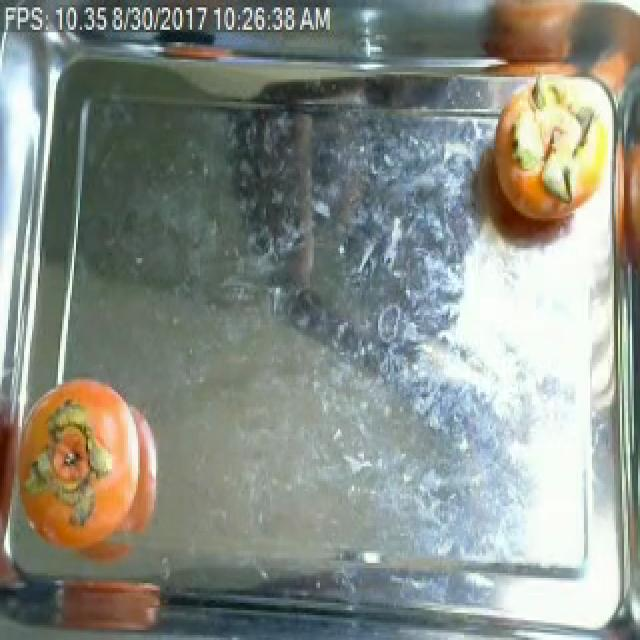Fruit: (46, 560, 174, 638)
